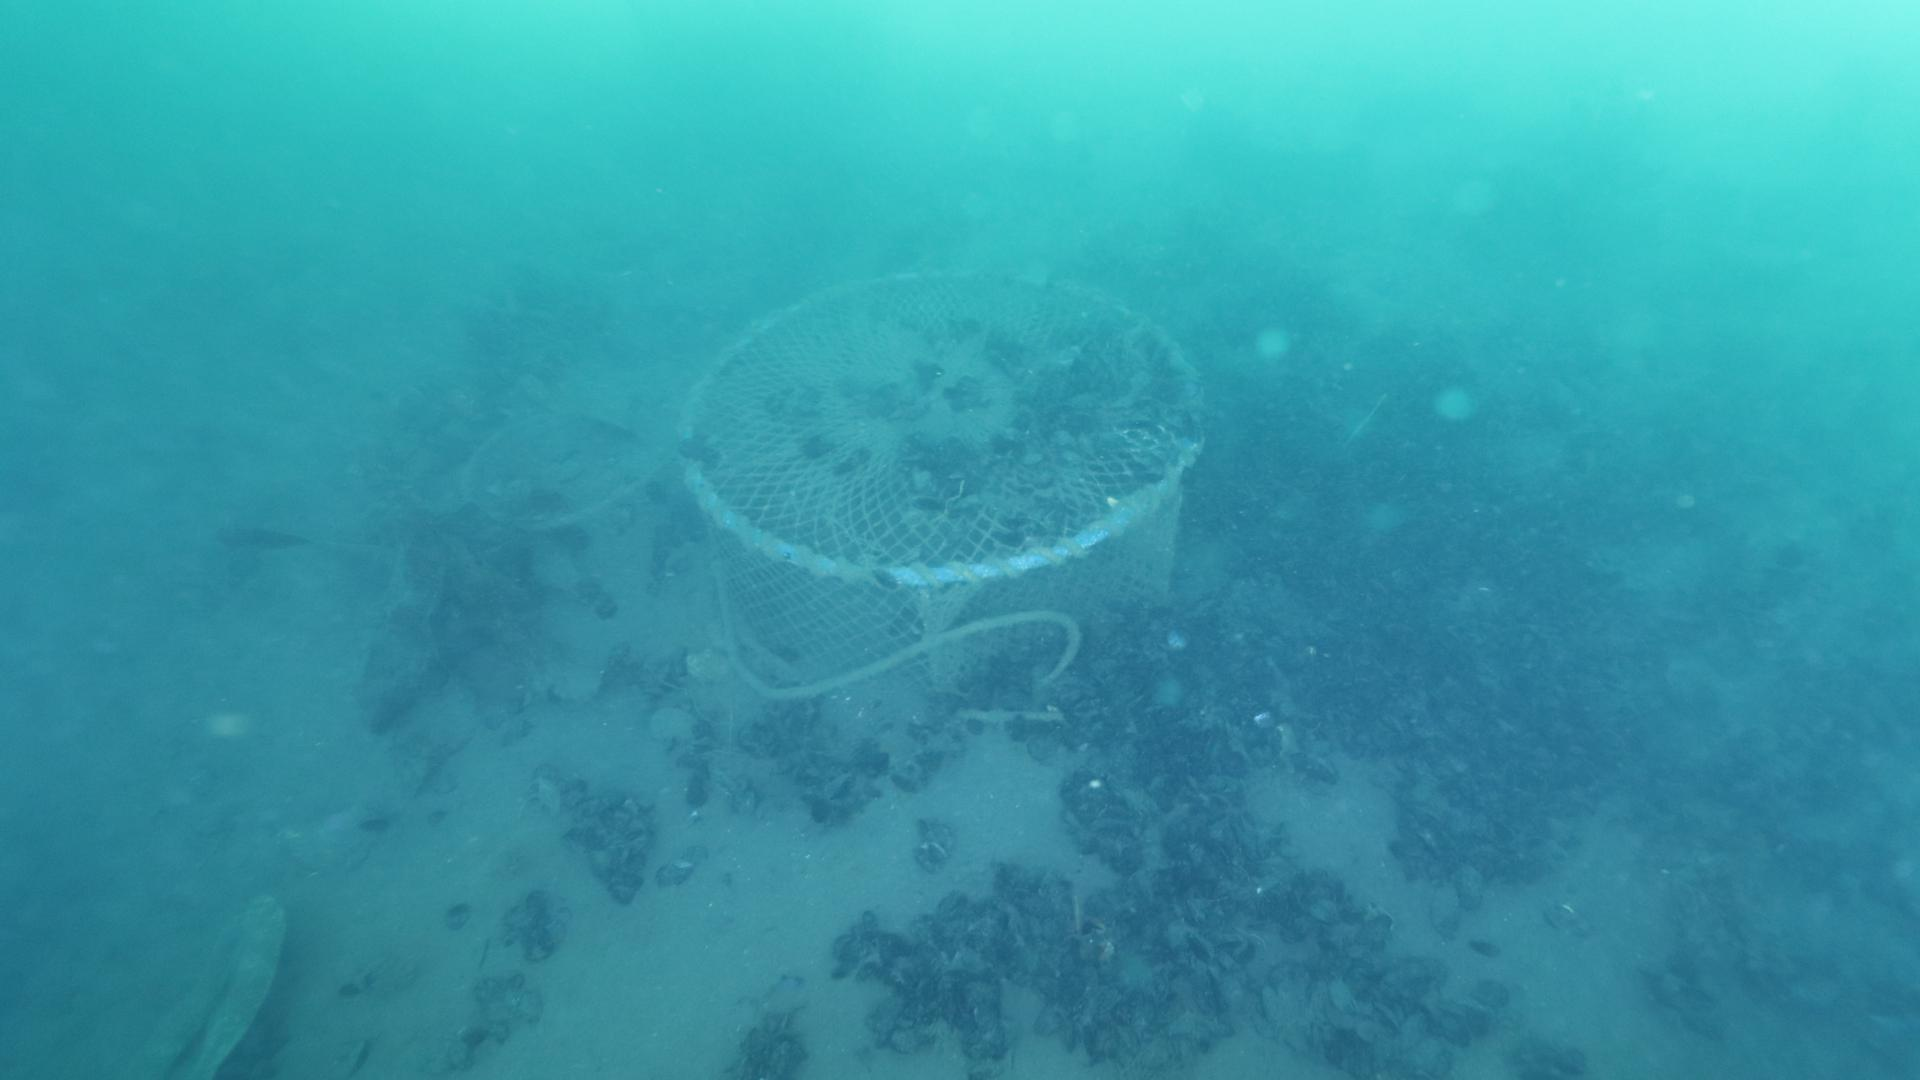circular fish trap: (670, 255, 1204, 735)
rope: (699, 504, 1081, 702)
